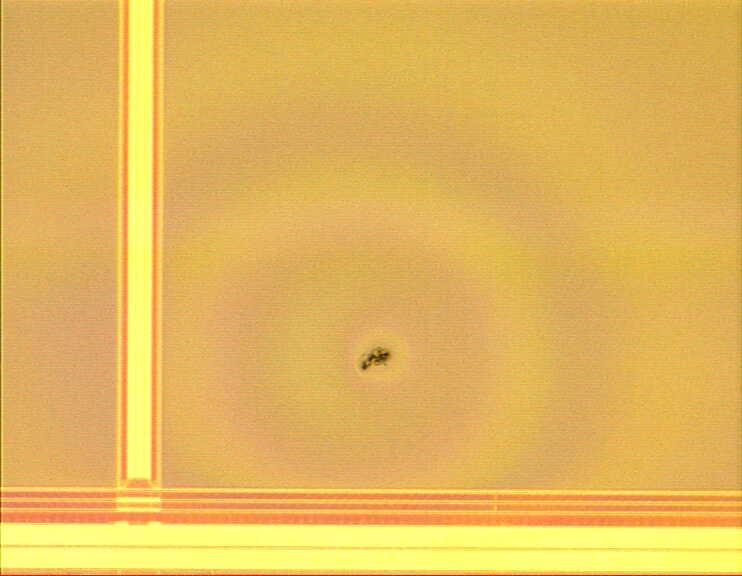PIQ PARTICLE: (357, 345, 395, 372)
